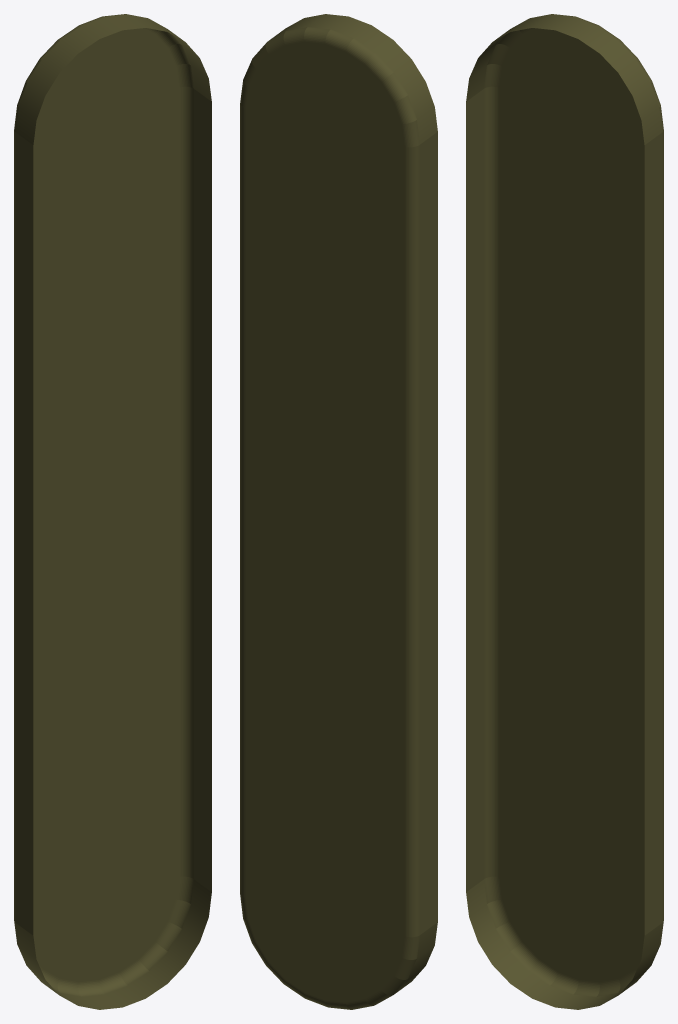
File: original-10.obj
3 renders of one model, left to right at view 1: azimuth 30°, elevation 25°; view 2: azimuth 150°, elevation 25°; view 3: azimuth 330°, elevation 25°, orthographic.
Visible parts, largest first — view 1: #ID65; view 2: #ID65; view 3: #ID65.
Part boxes in pixels (x1,y1,x2,y2): #ID65: (14,14,211,1009); #ID65: (240,14,437,1009); #ID65: (466,14,663,1009).
Bounding box in the file's own units: 0.0407 × 0.2129 × 0.00927.
